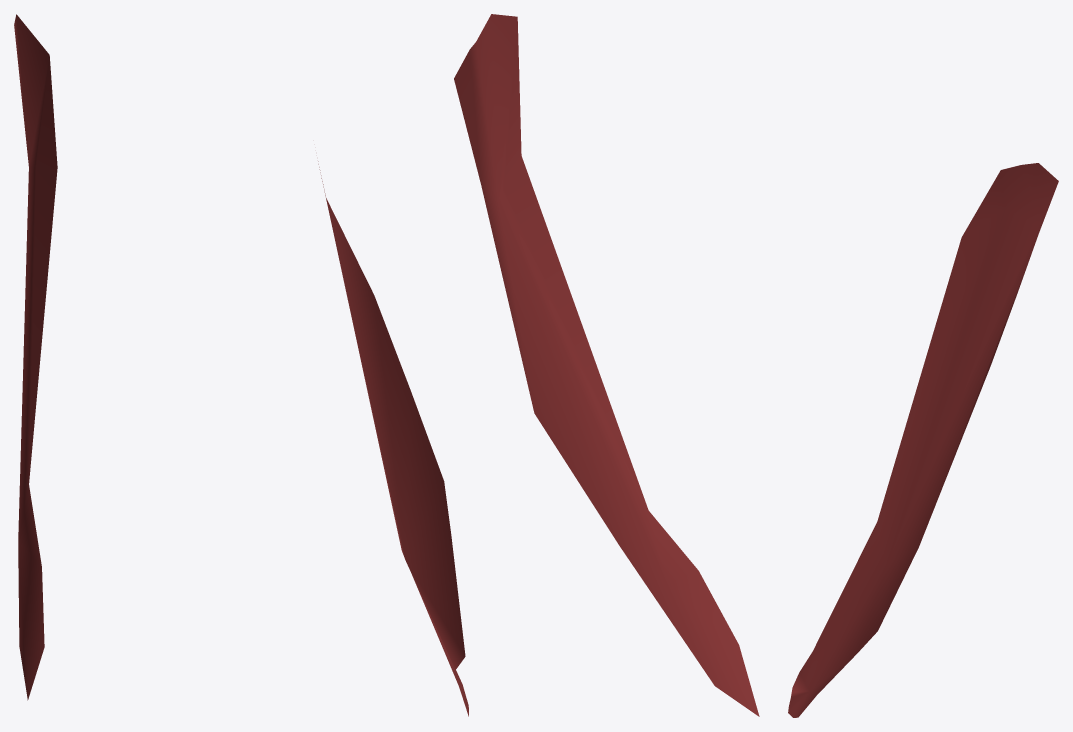
File: dorsal-interossei-muscles-of-hand-o2r.glb
The picture shows the model from 3 angles, left to right: view 1: azimuth 30°, elevation 25°; view 2: azimuth 150°, elevation 25°; view 3: azimuth 270°, elevation 25°; orthographic projection. The views are drawn at different scales.
Parts seen in each view (by area): view 1: Dorsal interossei muscles of hand.o2r; view 2: Dorsal interossei muscles of hand.o2r; view 3: Dorsal interossei muscles of hand.o2r.
Boxes of the visible parts, x1,y1,x2,y2 form: Dorsal interossei muscles of hand.o2r: [14, 14, 57, 700]; Dorsal interossei muscles of hand.o2r: [318, 14, 759, 716]; Dorsal interossei muscles of hand.o2r: [788, 163, 1058, 717].
Bounding box in the file's own units: 0.0128 × 0.0325 × 0.0125.
